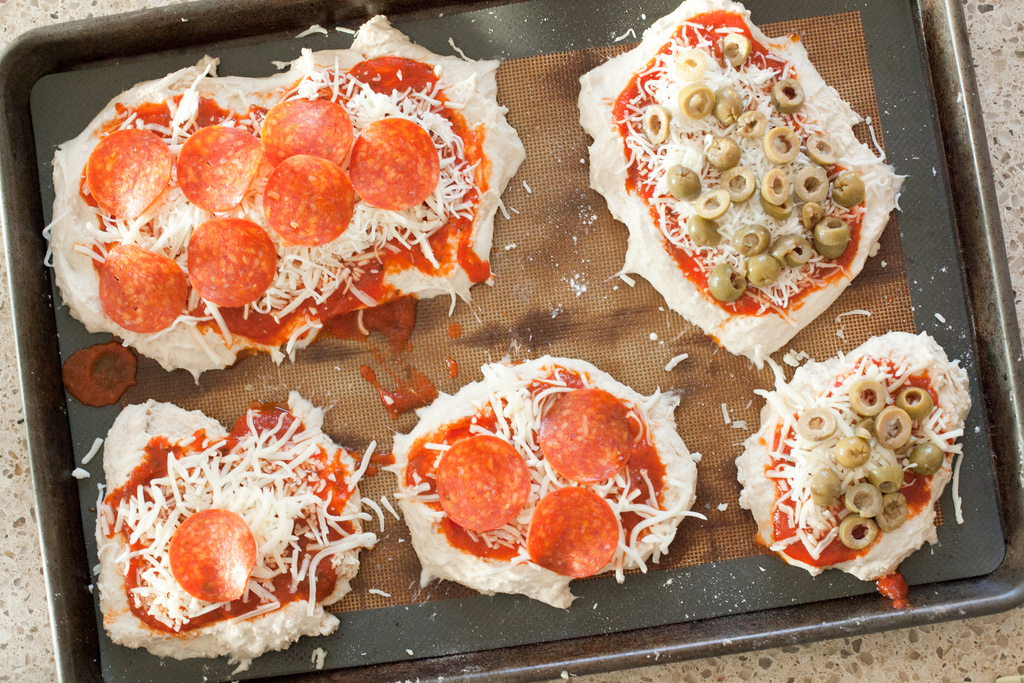Pizza: (44, 12, 531, 386), (586, 28, 888, 324), (383, 347, 698, 611), (89, 404, 373, 666), (725, 331, 978, 585)
